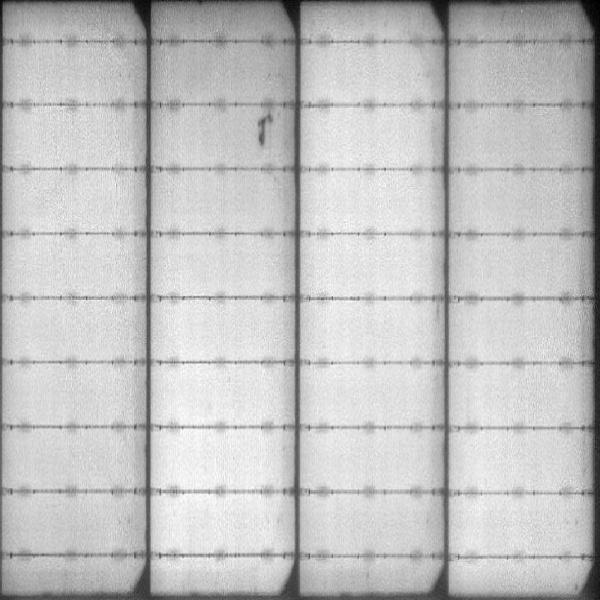broken: (252, 113, 275, 146)
